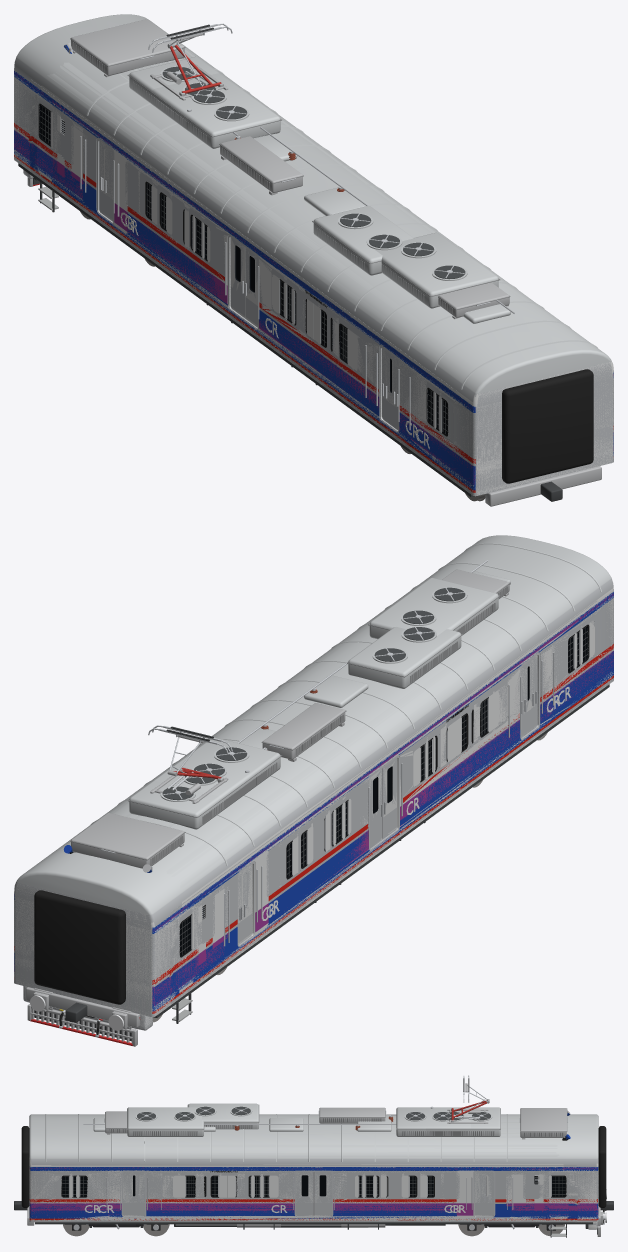
Rendered from emu.glb.
3 views of the same model, one above another, from view 1: azimuth 30°, elevation 25°; view 2: azimuth 150°, elevation 25°; view 3: azimuth 270°, elevation 25° (orthographic). The views are drawn at different scales.
Parts seen in each view (by area): view 1: coach_cab_ac_lod0, coach_cab_nonac_lod0, coach_motor_ac_lod0, coach_trailer_ac_lod0, coach_trailer_nonac_lod0, coach_motor_nonac_lod0; view 2: coach_motor_ac_lod0, coach_cab_ac_lod0, coach_cab_nonac_lod0, coach_trailer_ac_lod0, coach_trailer_nonac_lod0, coach_motor_nonac_lod0; view 3: coach_cab_ac_lod0, coach_cab_nonac_lod0, coach_motor_ac_lod0, coach_trailer_ac_lod0, coach_trailer_nonac_lod0, coach_motor_nonac_lod0.
Boxes of the visible parts, x1=… form: coach_cab_ac_lod0: x1=23, y1=38, x2=613, y2=506; coach_cab_nonac_lod0: x1=23, y1=19, x2=613, y2=505; coach_motor_ac_lod0: x1=14, y1=14, x2=608, y2=505; coach_trailer_ac_lod0: x1=14, y1=14, x2=611, y2=505; coach_trailer_nonac_lod0: x1=14, y1=14, x2=609, y2=506; coach_motor_nonac_lod0: x1=14, y1=71, x2=448, y2=440; coach_motor_ac_lod0: x1=14, y1=535, x2=610, y2=1027; coach_cab_ac_lod0: x1=23, y1=543, x2=613, y2=1046; coach_cab_nonac_lod0: x1=23, y1=536, x2=613, y2=1045; coach_trailer_ac_lod0: x1=14, y1=536, x2=613, y2=1026; coach_trailer_nonac_lod0: x1=14, y1=535, x2=608, y2=1027; coach_motor_nonac_lod0: x1=14, y1=621, x2=594, y2=1016; coach_cab_ac_lod0: x1=14, y1=1107, x2=606, y2=1236; coach_cab_nonac_lod0: x1=14, y1=1108, x2=606, y2=1237; coach_motor_ac_lod0: x1=14, y1=1075, x2=613, y2=1230; coach_trailer_ac_lod0: x1=22, y1=1107, x2=613, y2=1229; coach_trailer_nonac_lod0: x1=22, y1=1114, x2=613, y2=1229; coach_motor_nonac_lod0: x1=54, y1=1118, x2=598, y2=1222.
Size of what is drawn, in the model's own units: 3.75 by 5.68 by 21.85.
